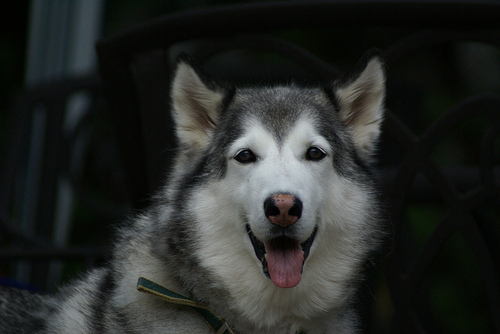dog: (0, 54, 388, 333)
